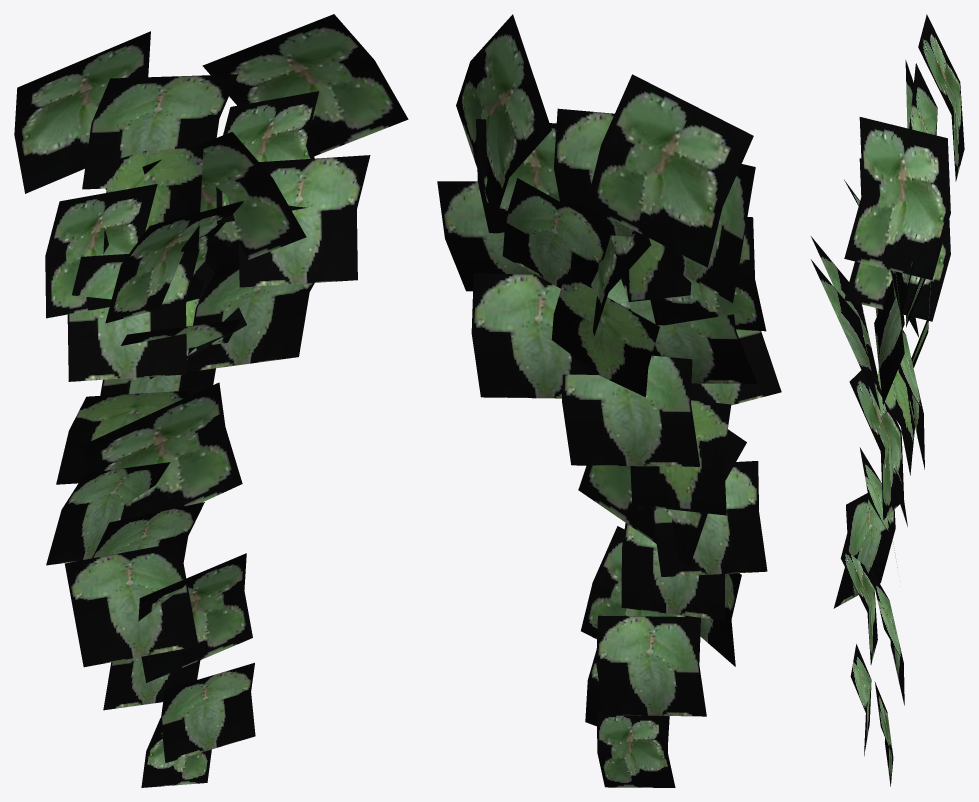
Rendered from SM_ivy01_35ae32.glb.
3 renders of one model, left to right at view 1: azimuth 30°, elevation 25°; view 2: azimuth 150°, elevation 25°; view 3: azimuth 270°, elevation 25°, orthographic. The views are drawn at different scales.
Size of the model in its own units: 0.6448 by 1.33 by 0.2577.
Materials: 1 (1 with a texture image).
